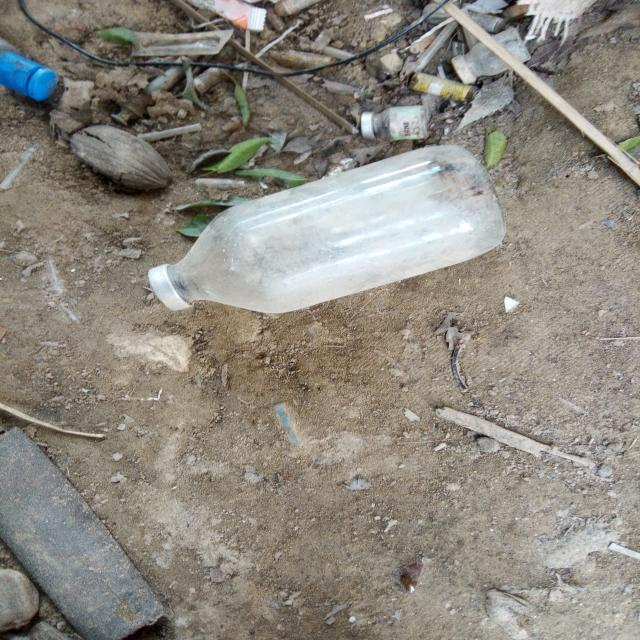chai: (148, 145, 505, 314)
